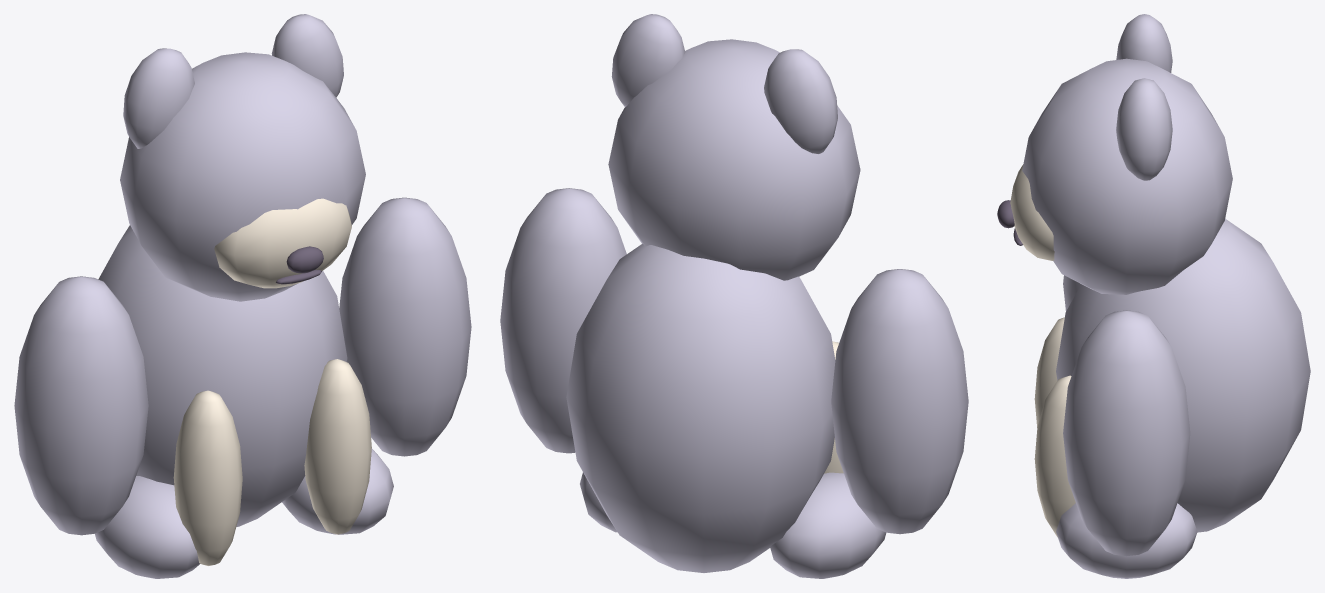
Rendered from gorilla-support.glb.
The picture shows the model from 3 angles, left to right: view 1: azimuth 30°, elevation 25°; view 2: azimuth 150°, elevation 25°; view 3: azimuth 270°, elevation 25°; orthographic projection. The views are drawn at different scales.
Visible parts, largest first — view 1: gorilla support offline illustration; view 2: gorilla support offline illustration; view 3: gorilla support offline illustration.
Part boxes in pixels (x1,y1,x2,y2): gorilla support offline illustration: (14, 14, 471, 578); gorilla support offline illustration: (500, 14, 968, 578); gorilla support offline illustration: (997, 14, 1310, 578).
Size of the model in its own units: 0.68 by 0.7532 by 0.443.
